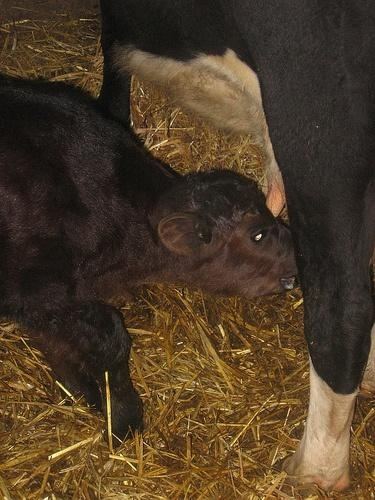cow: (99, 2, 375, 492), (1, 65, 312, 433)
